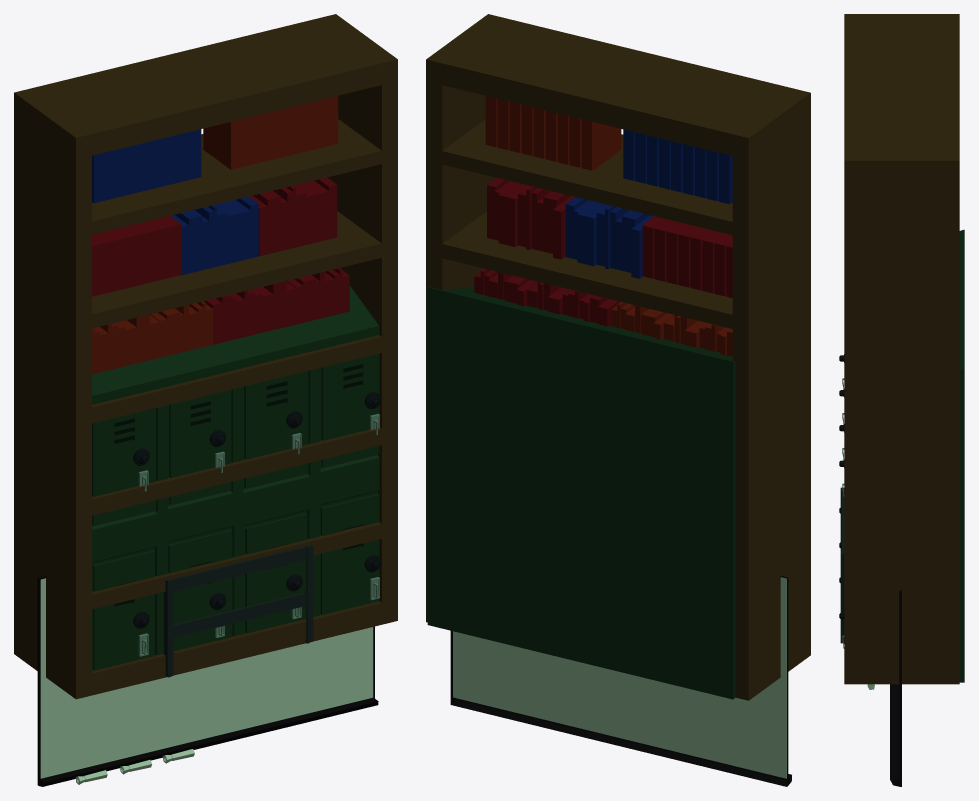
The model's file is School_Models.fbx.
3 views of the same model, side by side, from view 1: azimuth 30°, elevation 25°; view 2: azimuth 150°, elevation 25°; view 3: azimuth 270°, elevation 25° (orthographic). The views are drawn at different scales.
Parts seen in each view (by area): view 1: BookShelf_Full, Lockers, Bookshelf_Half, Whiteboard, Roll_in_TV; view 2: BookShelf_Full, Lockers, Whiteboard, Bookshelf_Half; view 3: BookShelf_Full, Bookshelf_Half, Lockers, Whiteboard, Roll_in_TV.
Part boxes in pixels (bbox=[...]): BookShelf_Full: bbox=[14, 14, 397, 682]; Lockers: bbox=[92, 285, 380, 670]; Bookshelf_Half: bbox=[14, 335, 397, 699]; Whiteboard: bbox=[37, 576, 378, 786]; Roll_in_TV: bbox=[164, 544, 313, 677]; BookShelf_Full: bbox=[426, 14, 810, 700]; Lockers: bbox=[427, 287, 735, 699]; Whiteboard: bbox=[450, 576, 791, 786]; Bookshelf_Half: bbox=[426, 367, 810, 700]; BookShelf_Full: bbox=[844, 14, 959, 684]; Bookshelf_Half: bbox=[844, 416, 930, 684]; Lockers: bbox=[839, 229, 964, 682]; Whiteboard: bbox=[890, 590, 901, 786]; Roll_in_TV: bbox=[840, 487, 844, 643].
Size of the model in its own units: 3.13 by 5.95 by 1.08.
